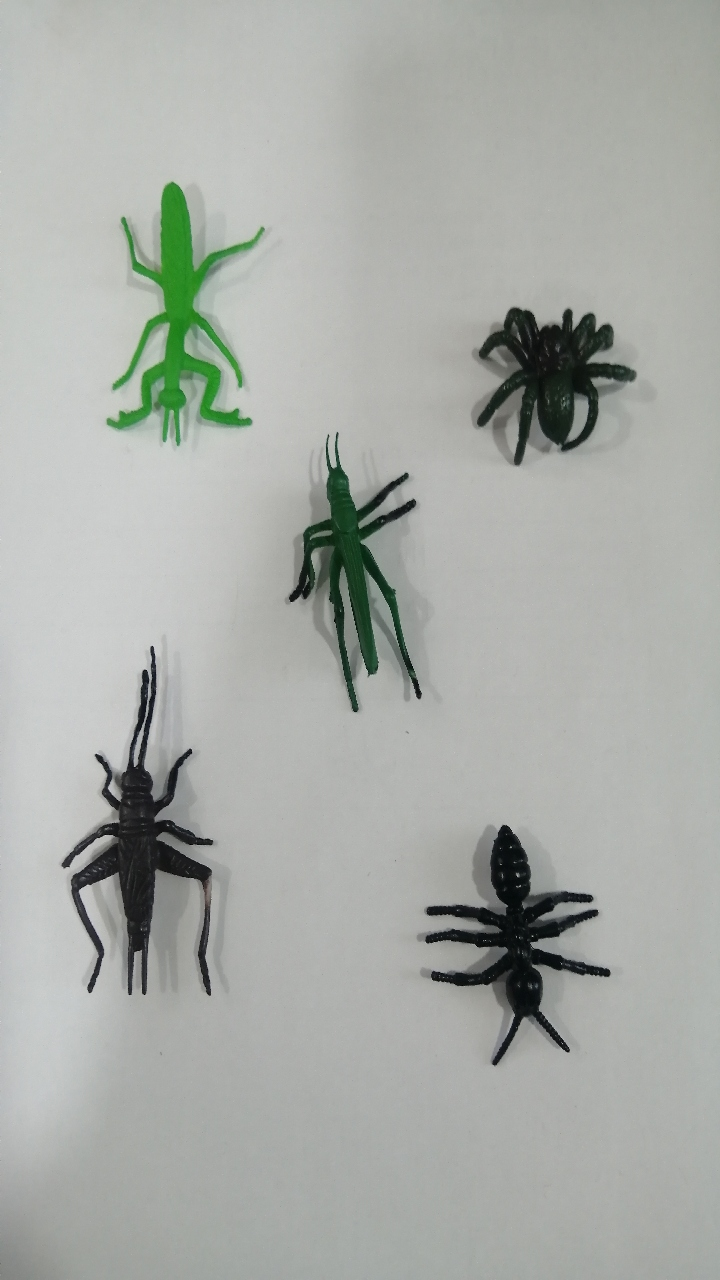intruso: (392, 766, 638, 1129), (37, 632, 254, 1017), (86, 149, 268, 462), (261, 420, 438, 729), (440, 274, 660, 506)
